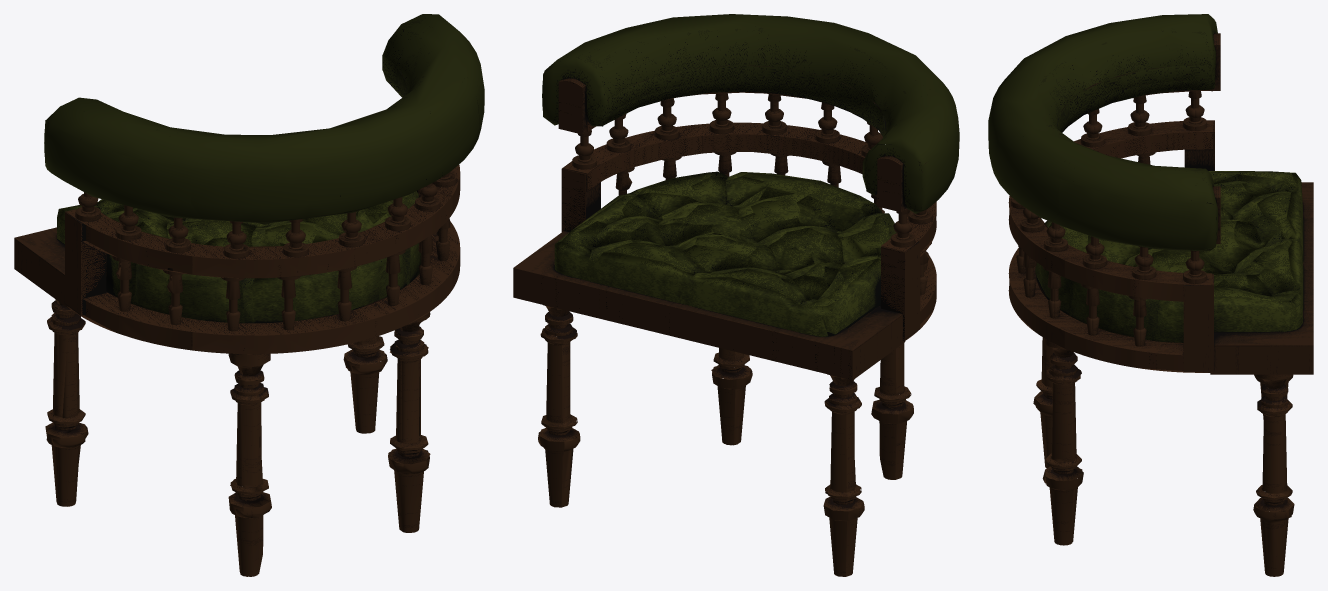
Rendered from mdl_hub_leatherofficechair.gltf.
The picture shows the model from 3 angles, left to right: view 1: azimuth 30°, elevation 25°; view 2: azimuth 150°, elevation 25°; view 3: azimuth 270°, elevation 25°; orthographic projection. The views are drawn at different scales.
Parts seen in each view (by area): view 1: Wood Front; view 2: Wood Front; view 3: Wood Front.
Boxes of the visible parts, x1,y1,x2,y2 form: Wood Front: [14, 14, 484, 576]; Wood Front: [513, 14, 959, 576]; Wood Front: [988, 14, 1313, 576].
Bounding box in the file's own units: 3.23 × 3.32 × 2.39.
Materials: 6 (6 with a texture image).
